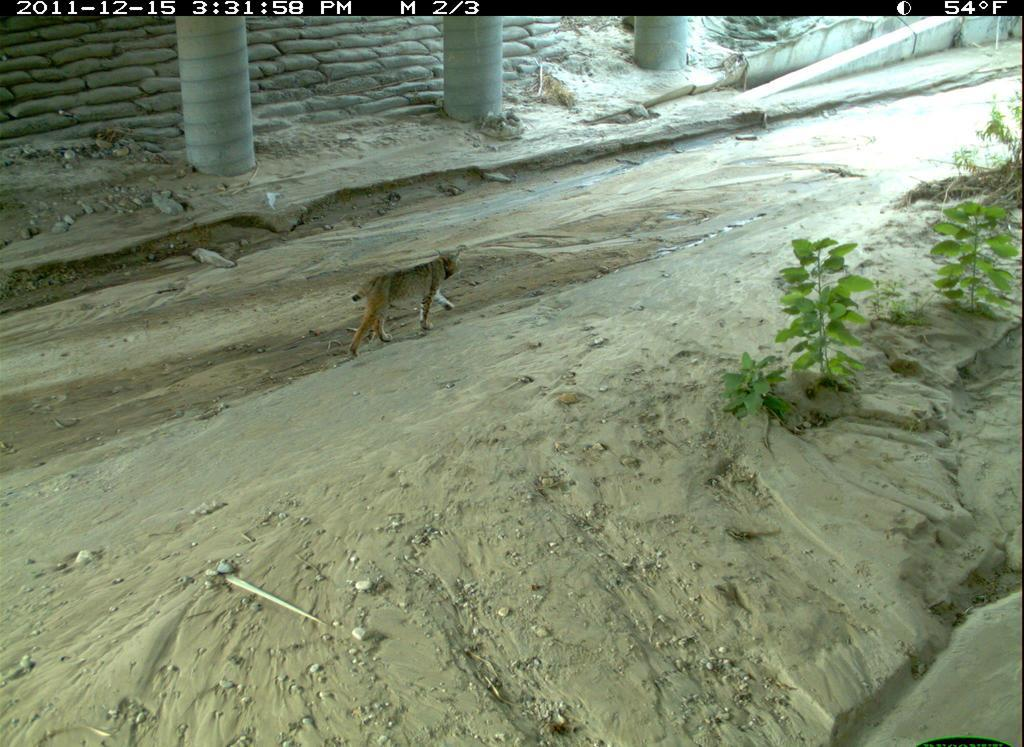bobcat: (335, 246, 470, 359)
